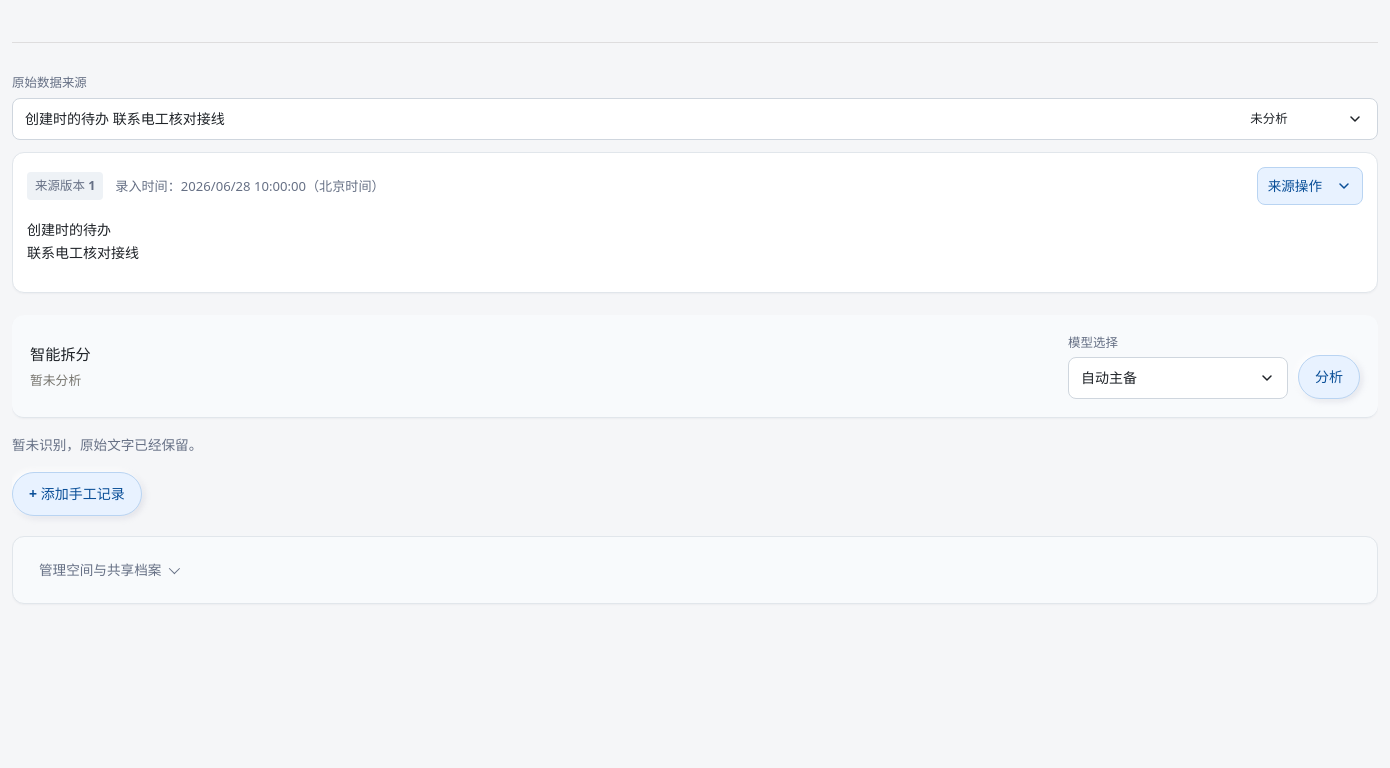
Scenario: DomainWorkspace › 直接录入快照只读展示，切换普通来源后仍可编辑原文
Expected: the text "创建时的待办 联系电工核对接线" below "录入时间：" is shown, [27,220,139,262]
Click the button "来源操作".
click(1310, 186)  # box [1257,167,1363,205]
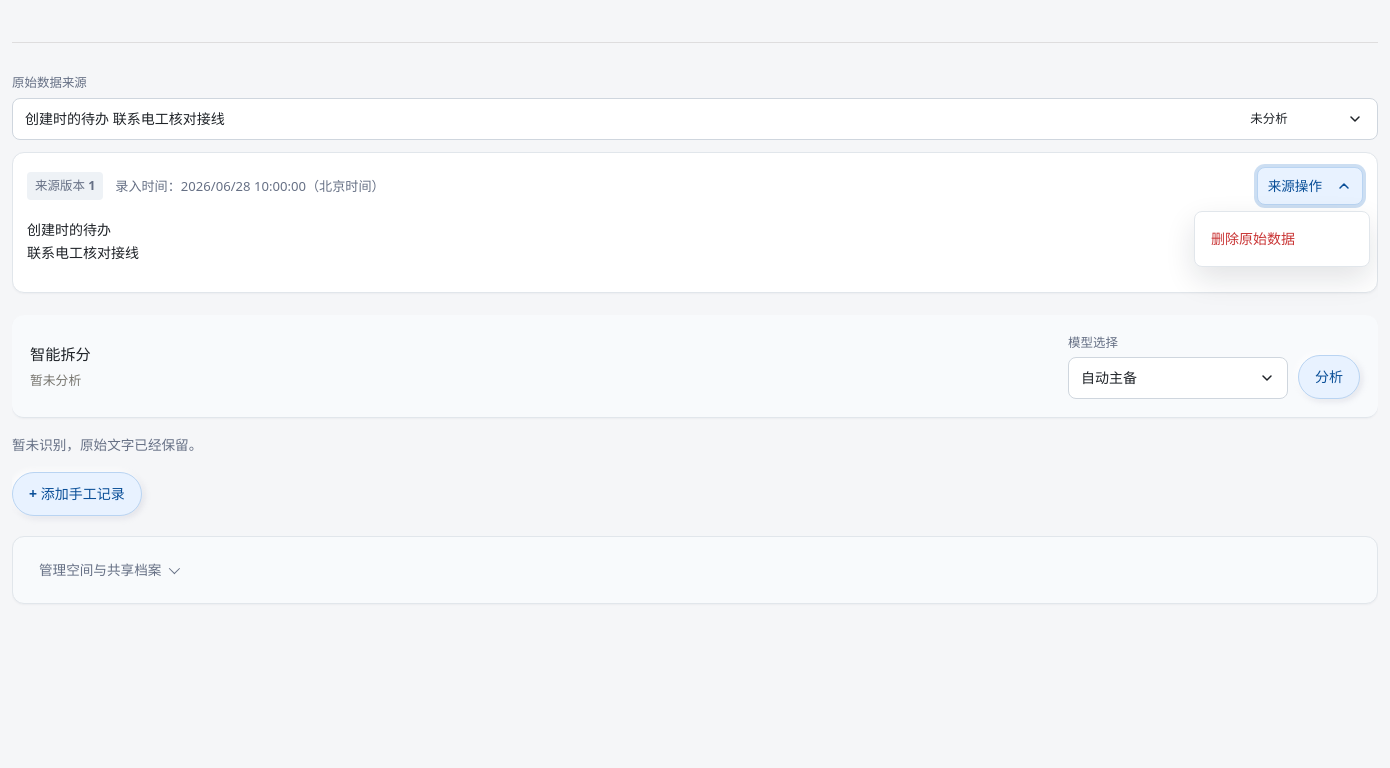
Expected: the menu item "修改原始数据" is not shown
Now the menu item "删除原始数据" is shown, box [1201,218,1363,260]
Press Escape
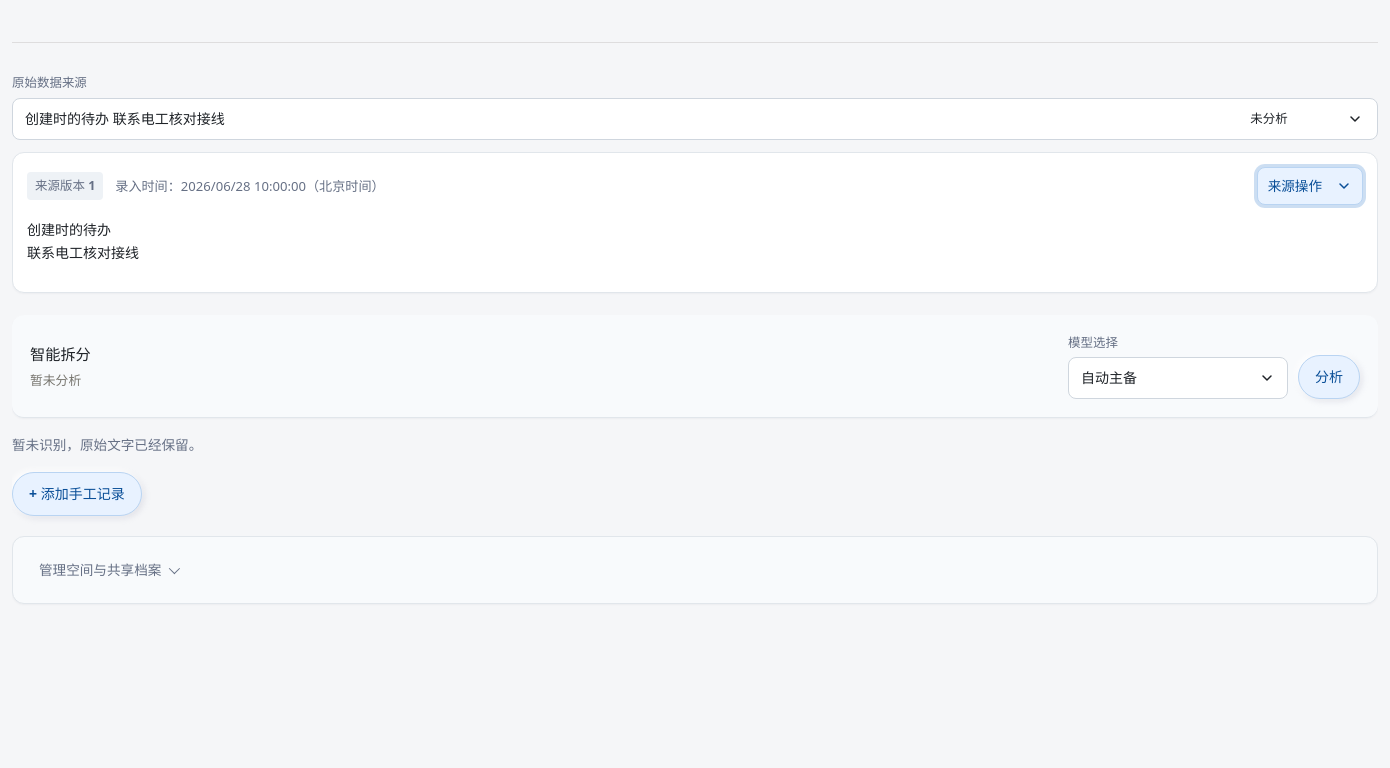
Click the button "创建时的待办 联系电工核对接线 未分析".
click(125, 119)  # box [12,98,1378,140]
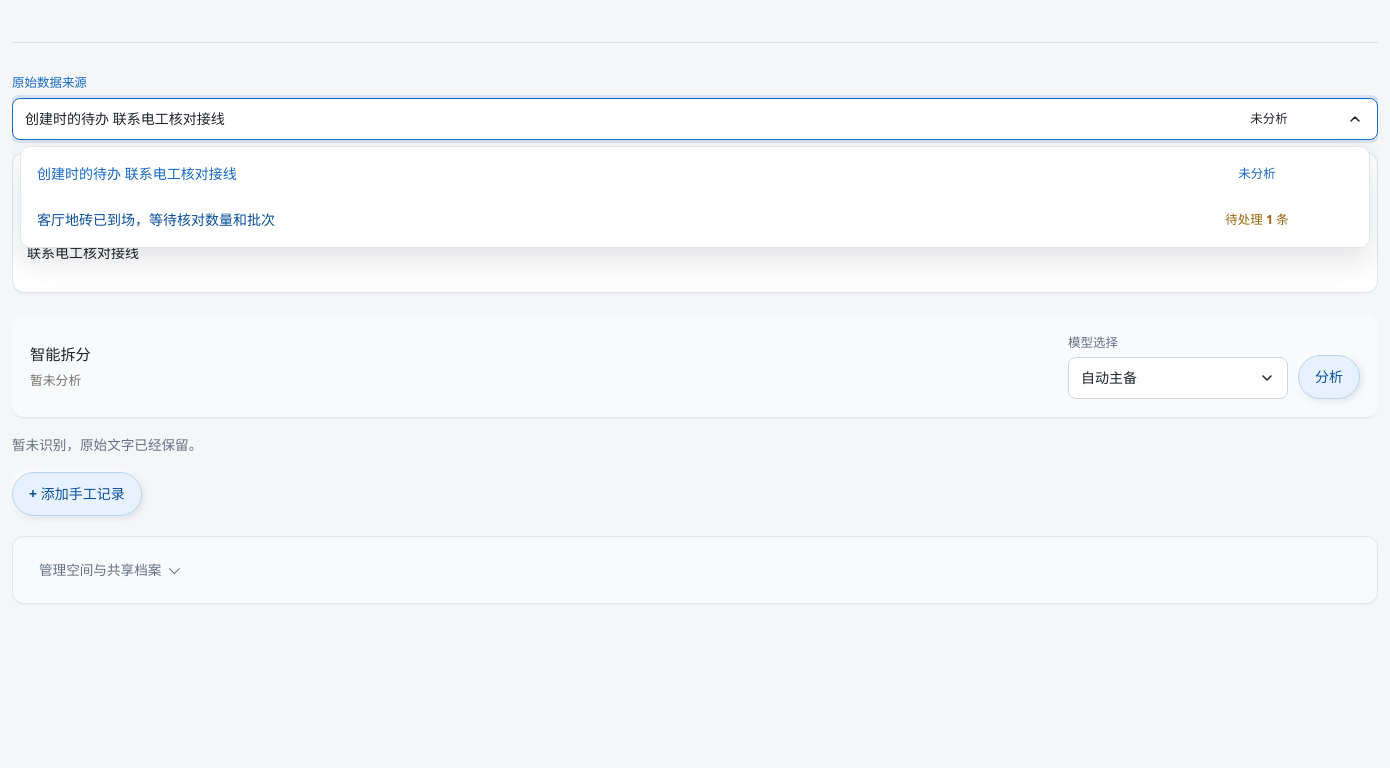
Click the option "客厅地砖已到场，等待核对数量和批次 待处理 1 条".
click(156, 220)  # box [27,199,1363,241]
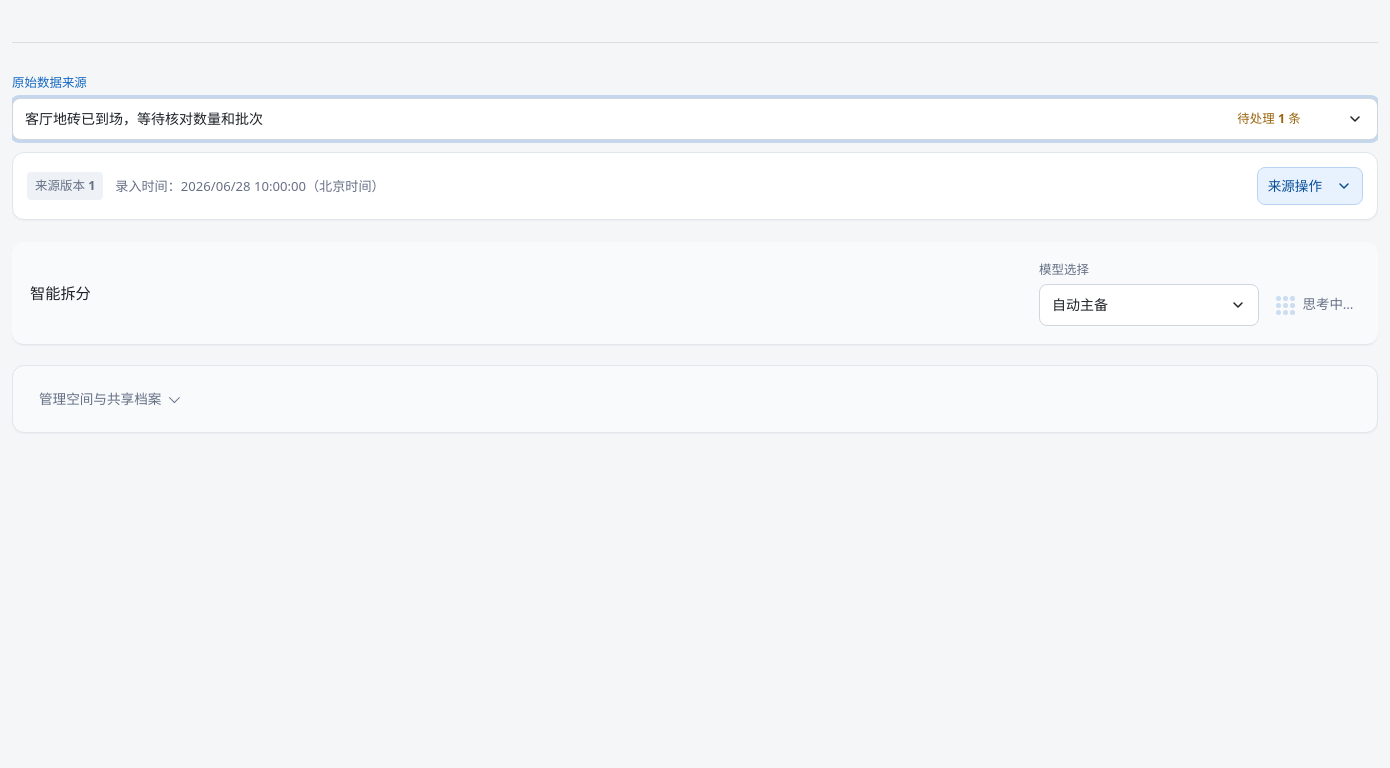
Click the button "来源操作".
click(1310, 186)  # box [1257,167,1363,205]
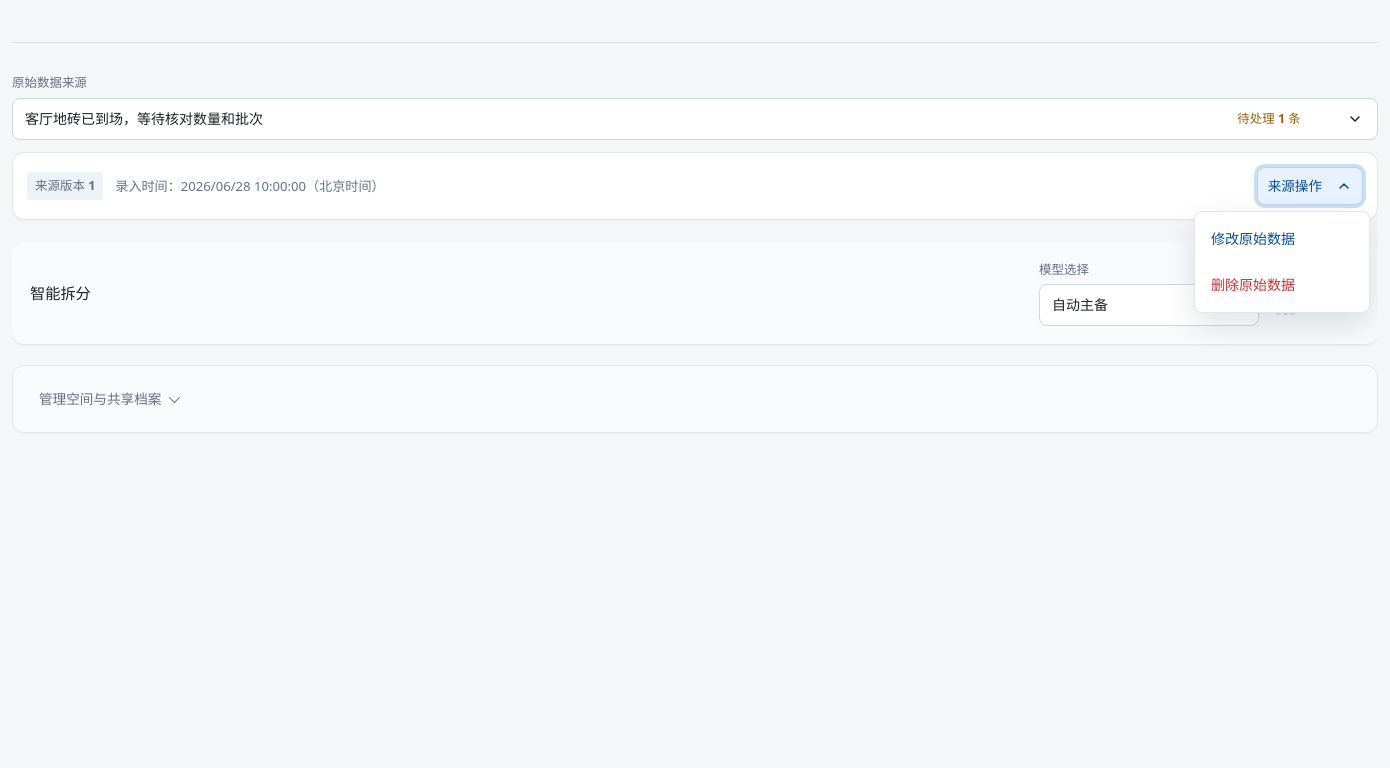
Click the menu item "修改原始数据".
click(1282, 239)  # box [1201,218,1363,260]
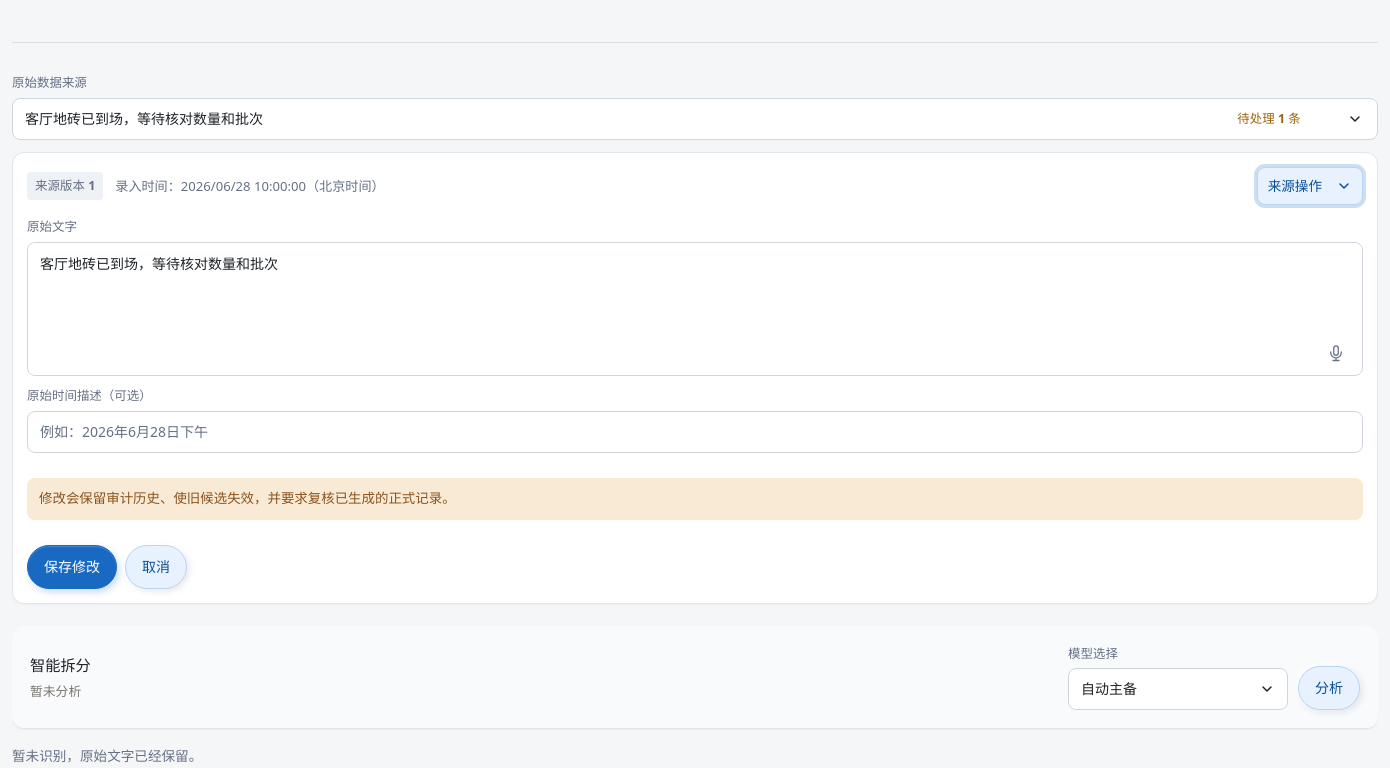
Now the text box labelled "原始文字" holds "客厅地砖已到场，等待核对数量和批次", box [28,243,1362,331]
